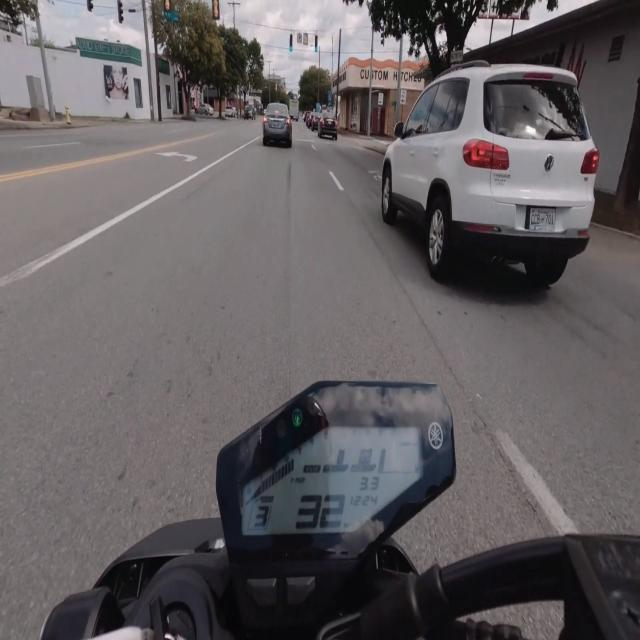car: (382, 62, 599, 285), (263, 103, 292, 148), (318, 112, 337, 139), (198, 104, 214, 115), (311, 112, 320, 131), (244, 105, 255, 119), (225, 105, 233, 117)
motorcycle: (41, 382, 639, 639)
